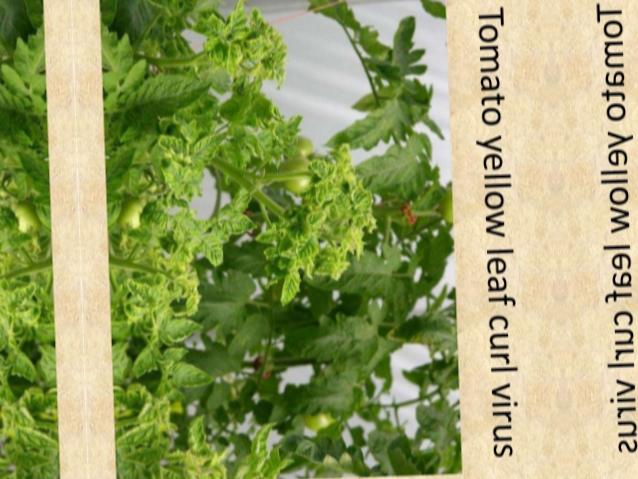Tomato leaf yellow virus: (169, 361, 219, 399), (191, 126, 231, 168), (123, 276, 170, 309), (249, 418, 281, 466), (153, 315, 204, 345), (158, 159, 195, 199), (276, 265, 304, 312), (219, 0, 248, 45), (181, 410, 211, 453), (209, 46, 243, 79), (212, 212, 258, 235), (198, 235, 225, 273), (157, 226, 184, 262), (308, 180, 337, 205), (299, 158, 337, 176), (294, 238, 318, 265), (141, 204, 172, 222), (304, 211, 328, 234), (319, 255, 344, 277)
